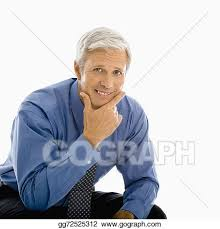white_male: (83, 39, 136, 118)
